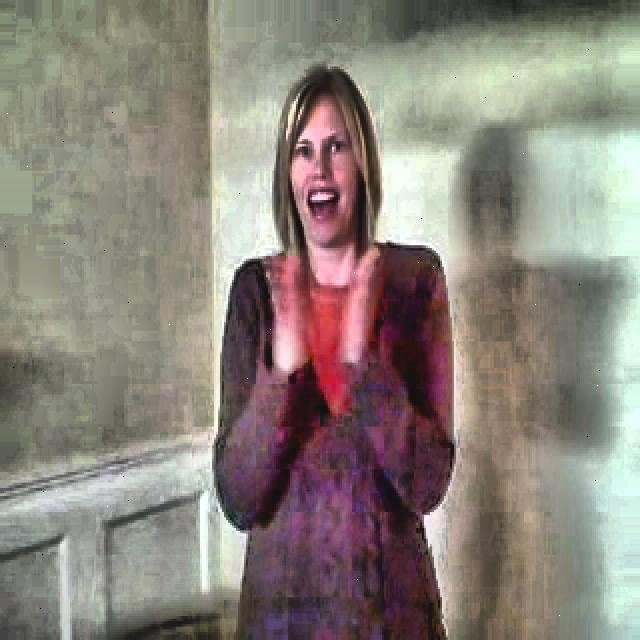F: (187, 54, 465, 626)
